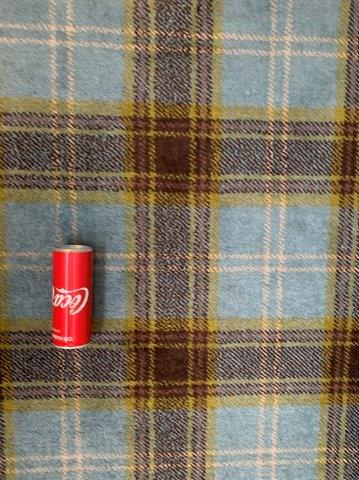kaleng: (52, 245, 93, 348)
